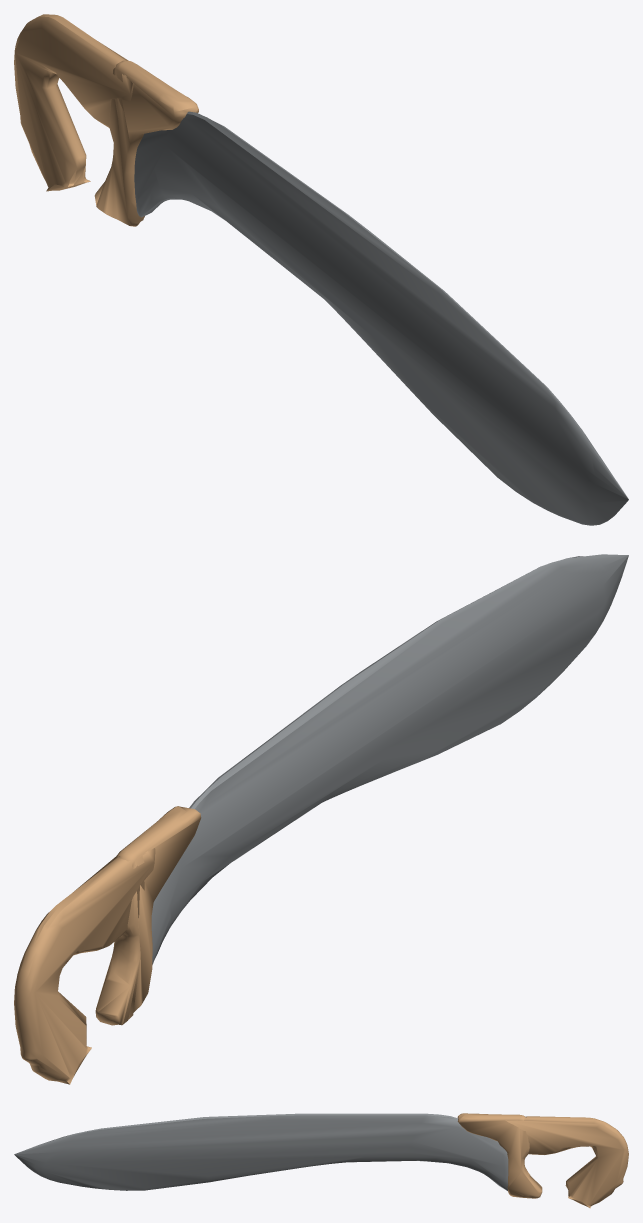
The model's file is Falcata.fbx.
3 views of the same model, one above another, from view 1: azimuth 30°, elevation 25°; view 2: azimuth 150°, elevation 25°; view 3: azimuth 270°, elevation 25° (orthographic). The views are drawn at different scales.
Visible parts, largest first — view 1: Hoja 2.0; view 2: Hoja 2.0; view 3: Hoja 2.0.
Part boxes in pixels (<box>): Hoja 2.0: <box>14,14,628,525</box>; Hoja 2.0: <box>14,554,628,1084</box>; Hoja 2.0: <box>14,1113,628,1208</box>.
Bounding box in the file's own units: 6.06 × 38.72 × 232.
